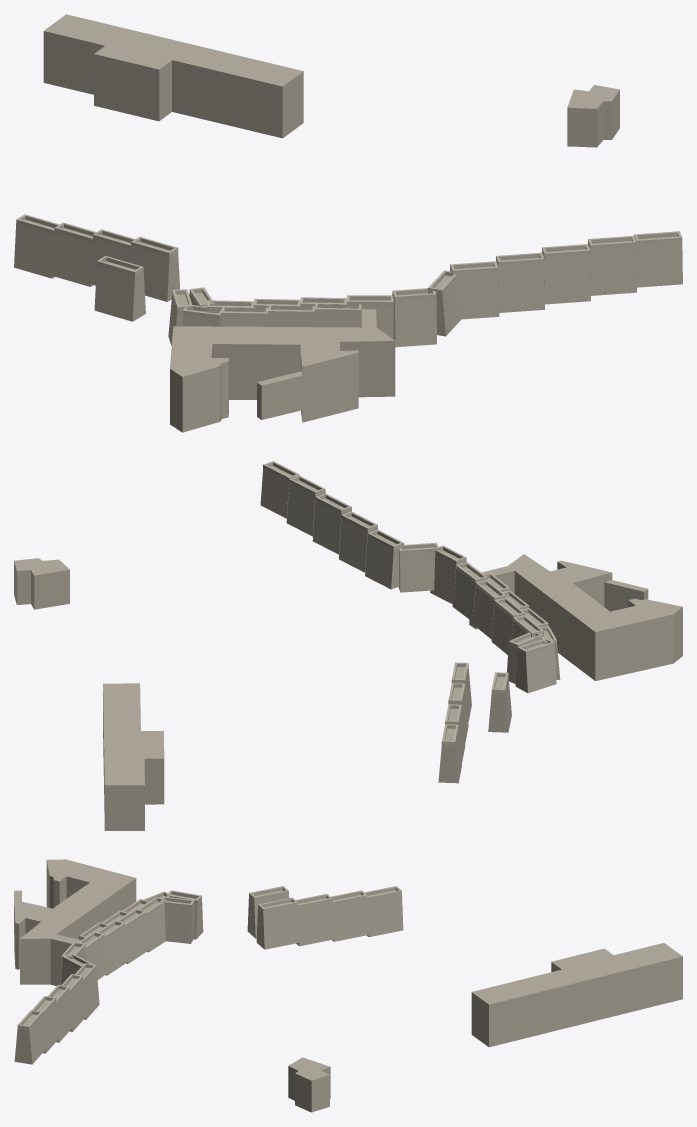
The model's file is bormla_62_28_collision.glb.
3 views of the same model, one above another, from view 1: azimuth 30°, elevation 25°; view 2: azimuth 150°, elevation 25°; view 3: azimuth 270°, elevation 25° (orthographic). The views are drawn at different scales.
Parts seen in each view (by area): view 1: geometry_0; view 2: geometry_0; view 3: geometry_0.
Boxes of the visible parts, bbox=[...] form: geometry_0: bbox=[14, 14, 682, 432]; geometry_0: bbox=[14, 461, 682, 830]; geometry_0: bbox=[14, 859, 682, 1112].
Bounding box in the file's own units: 180 × 26.03 × 211.
